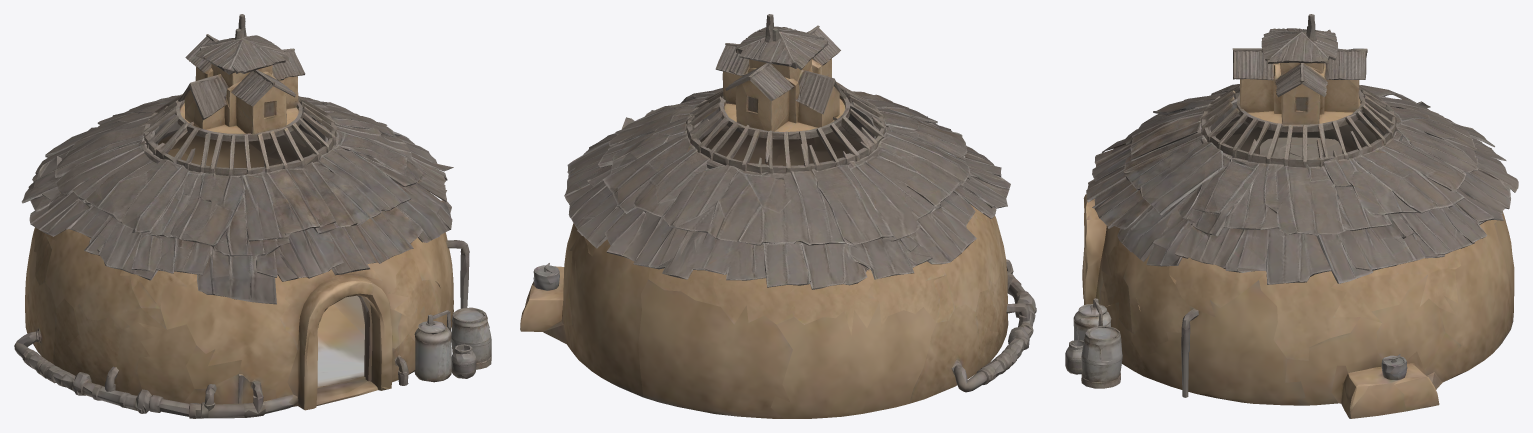
Rendered from lawquanefarm.glb.
The picture shows the model from 3 angles, left to right: view 1: azimuth 30°, elevation 25°; view 2: azimuth 150°, elevation 25°; view 3: azimuth 270°, elevation 25°; orthographic projection. The views are drawn at different scales.
Parts seen in each view (by area): view 1: lawquanefarm-centred; view 2: lawquanefarm-centred; view 3: lawquanefarm-centred.
Boxes of the visible parts, bbox=[...] form: lawquanefarm-centred: bbox=[14, 14, 491, 418]; lawquanefarm-centred: bbox=[520, 14, 1036, 418]; lawquanefarm-centred: bbox=[1065, 14, 1518, 418].
Bounding box in the file's own units: 16 × 10.99 × 14.82.
1 material, 1 textured.
